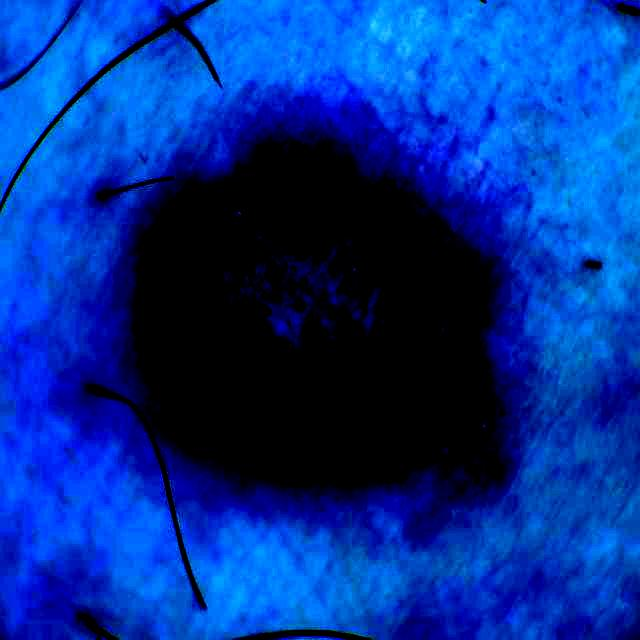DF: (147, 88, 499, 481)
